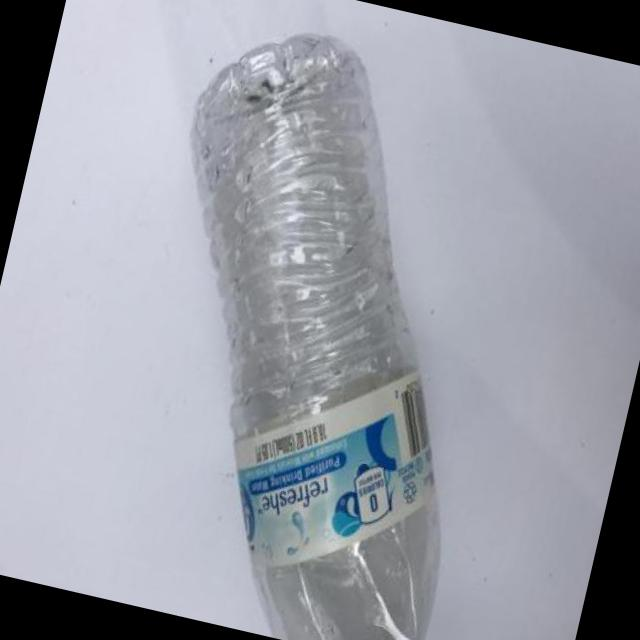plastic_bottle: (83, 9, 553, 640)
